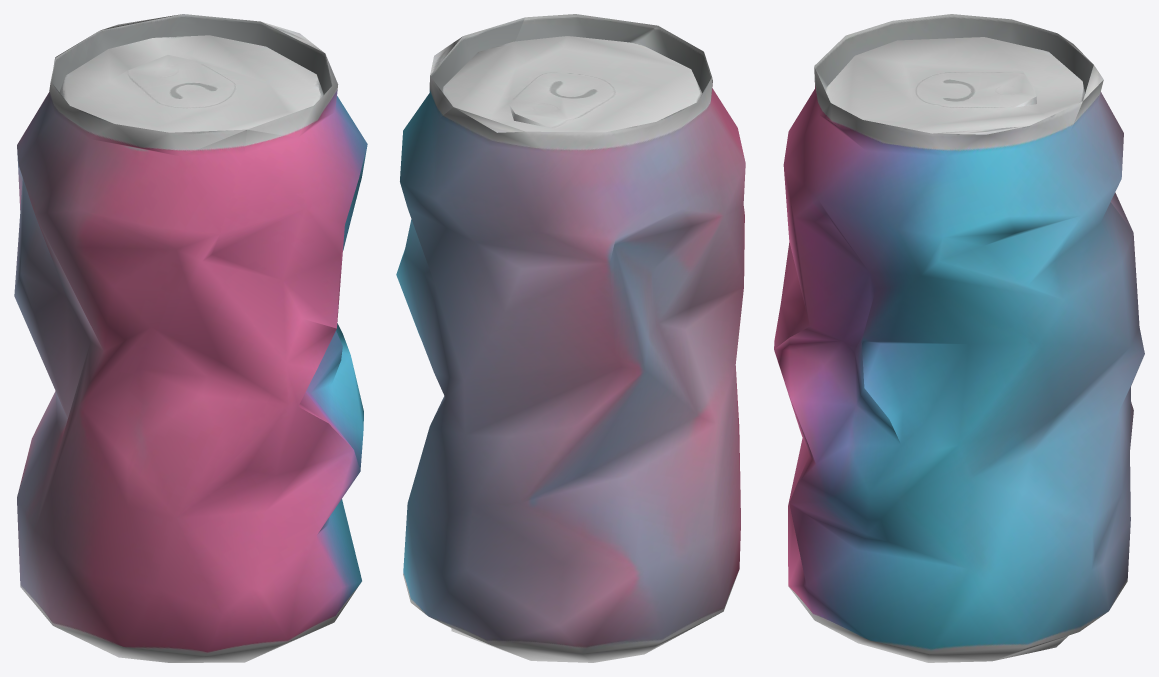
File: can.glb
3 views of the same model, side by side, from view 1: azimuth 30°, elevation 25°; view 2: azimuth 150°, elevation 25°; view 3: azimuth 270°, elevation 25° (orthographic).
Parts seen in each view (by area): view 1: mesh_node_Default; view 2: mesh_node_Default; view 3: mesh_node_Default.
Boxes of the visible parts, left/top/right/bottom form: mesh_node_Default: left=14, top=14, right=367, bottom=662; mesh_node_Default: left=396, top=14, right=745, bottom=662; mesh_node_Default: left=774, top=14, right=1144, bottom=662.
Bounding box in the file's own units: 1.14 × 1.91 × 1.19.
Materials: 1 (1 with a texture image).
